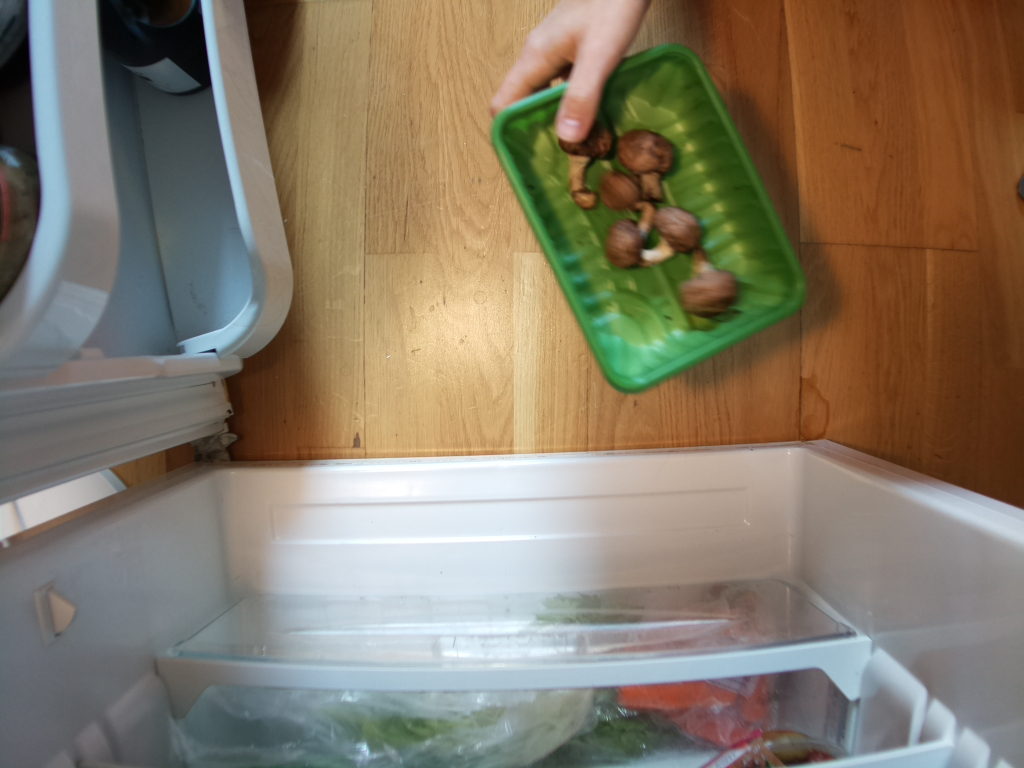mushrooms-bad: (492, 46, 813, 395)
